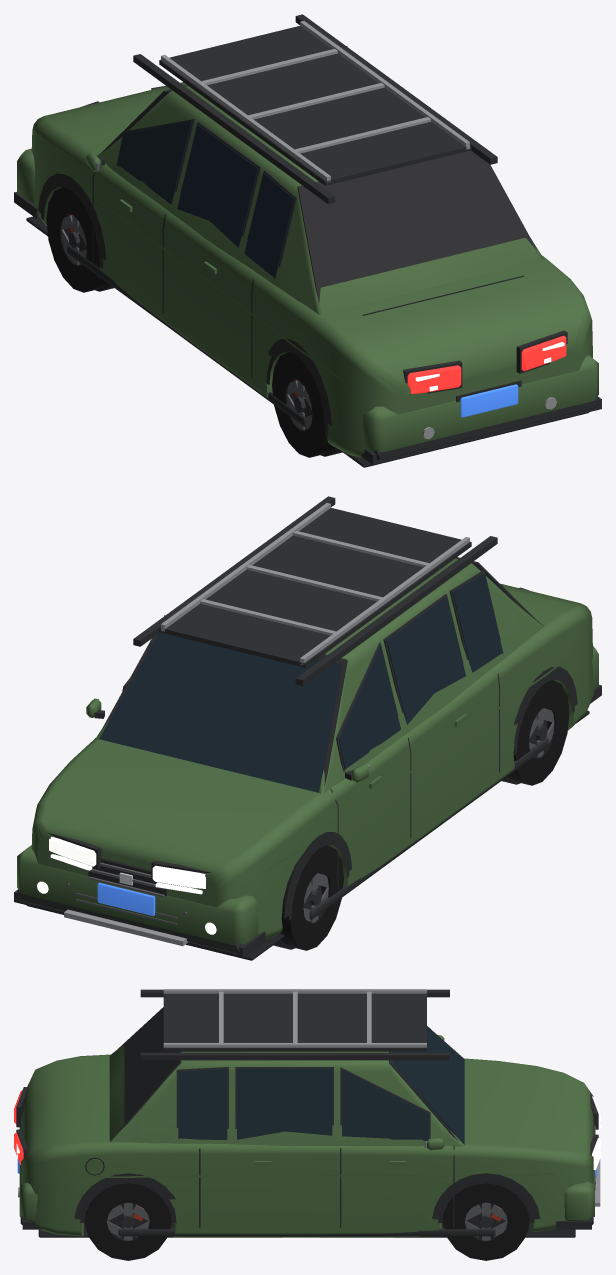
The model's file is car_suv_offroad_green.glb.
The picture shows the model from 3 angles, top to bottom: view 1: azimuth 30°, elevation 25°; view 2: azimuth 150°, elevation 25°; view 3: azimuth 270°, elevation 25°; orthographic projection. The views are drawn at different scales.
Visible parts, largest first — view 1: Body, Trim, Glass, Wheel_RL, Wheel_FL, Lights, Plate_R; view 2: Body, Trim, Glass, Wheel_FL, Wheel_RL, Lights, Plate_F; view 3: Body, Trim, Glass, Wheel_FR, Wheel_RR, Lights.
Boxes of the visible parts, left/top/right/bottom form: Body: left=17, top=82, right=598, bottom=457; Trim: left=14, top=14, right=601, bottom=467; Glass: left=96, top=91, right=294, bottom=279; Wheel_RL: left=272, top=352, right=334, bottom=457; Wheel_FL: left=46, top=187, right=108, bottom=292; Lights: left=407, top=335, right=566, bottom=393; Plate_R: left=460, top=384, right=518, bottom=417; Body: left=17, top=558, right=598, bottom=945; Trim: left=14, top=496, right=601, bottom=960; Glass: left=98, top=564, right=503, bottom=792; Wheel_FL: left=280, top=845, right=343, bottom=950; Wheel_RL: left=507, top=680, right=569, bottom=785; Lights: left=37, top=836, right=216, bottom=934; Plate_F: left=97, top=882, right=155, bottom=915; Body: left=19, top=1035, right=594, bottom=1237; Trim: left=16, top=989, right=600, bottom=1237; Glass: left=171, top=1026, right=464, bottom=1147; Wheel_FR: left=443, top=1183, right=529, bottom=1260; Wheel_RR: left=85, top=1183, right=171, bottom=1260; Lights: left=14, top=1090, right=601, bottom=1169.
Size of the model in its own units: 2.13 by 1.84 by 4.93.
